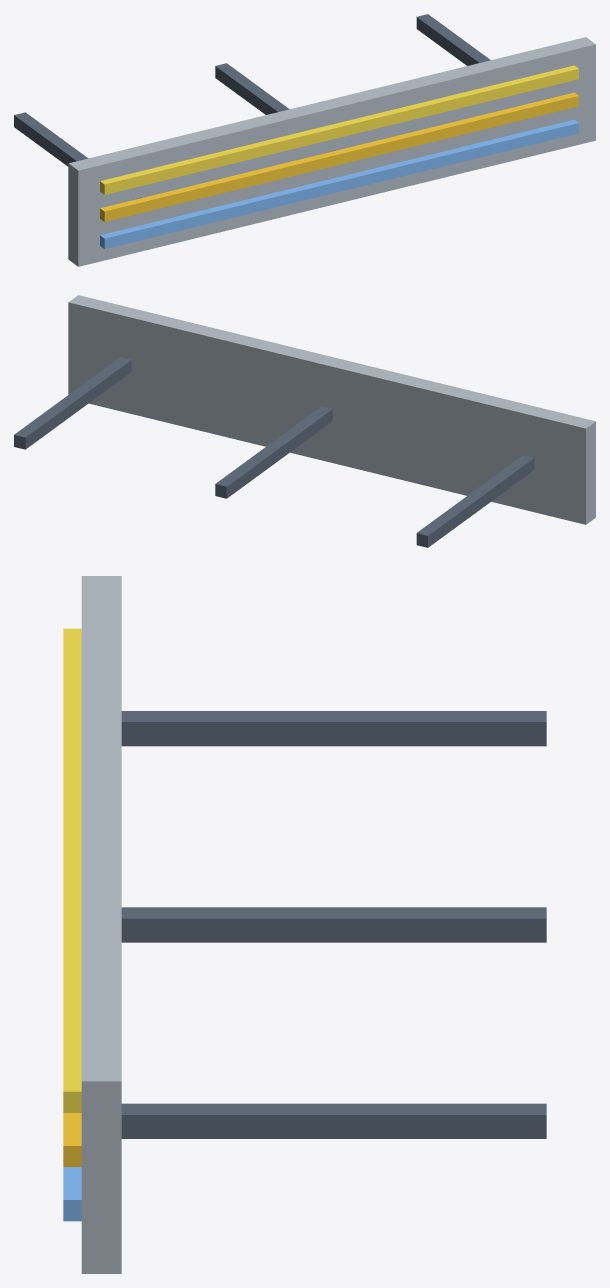
The model's file is cable_tray.glb.
The picture shows the model from 3 angles, top to bottom: view 1: azimuth 30°, elevation 25°; view 2: azimuth 150°, elevation 25°; view 3: azimuth 270°, elevation 25°; orthographic projection. The views are drawn at different scales.
Visible parts, largest first — view 1: tray_0, cable_1, cable_2, cable_3, support_4, support_5, support_6; view 2: tray_0, support_4, support_5, support_6; view 3: tray_0, support_5, support_4, support_6, cable_3, cable_1, cable_2.
Part boxes in pixels (left/top/right/bottom): tray_0: left=68, top=37, right=595, bottom=266; cable_1: left=100, top=119, right=578, bottom=248; cable_2: left=100, top=92, right=578, bottom=221; cable_3: left=100, top=65, right=578, bottom=194; support_4: left=14, top=112, right=141, bottom=199; support_5: left=215, top=63, right=339, bottom=151; support_6: left=416, top=14, right=490, bottom=65; tray_0: left=68, top=295, right=595, bottom=524; support_4: left=416, top=455, right=534, bottom=547; support_5: left=215, top=406, right=332, bottom=498; support_6: left=14, top=357, right=131, bottom=449; tray_0: left=81, top=576, right=121, bottom=1273; support_5: left=121, top=907, right=546, bottom=942; support_4: left=121, top=711, right=546, bottom=746; support_6: left=121, top=1103, right=546, bottom=1138; cable_3: left=63, top=628, right=81, bottom=1112; cable_1: left=63, top=1167, right=81, bottom=1221; cable_2: left=63, top=1113, right=81, bottom=1166.
Bounding box in the file's own units: 1.8 × 0.32 × 0.7275.
